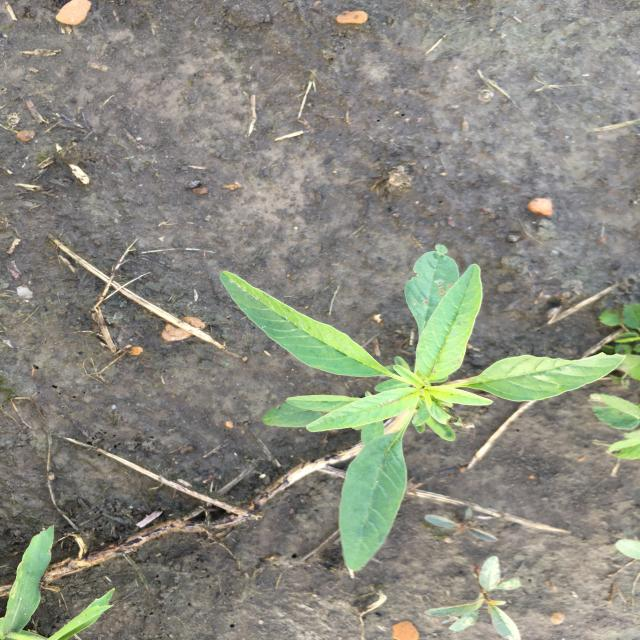Waterhemp: (217, 250, 630, 574)
